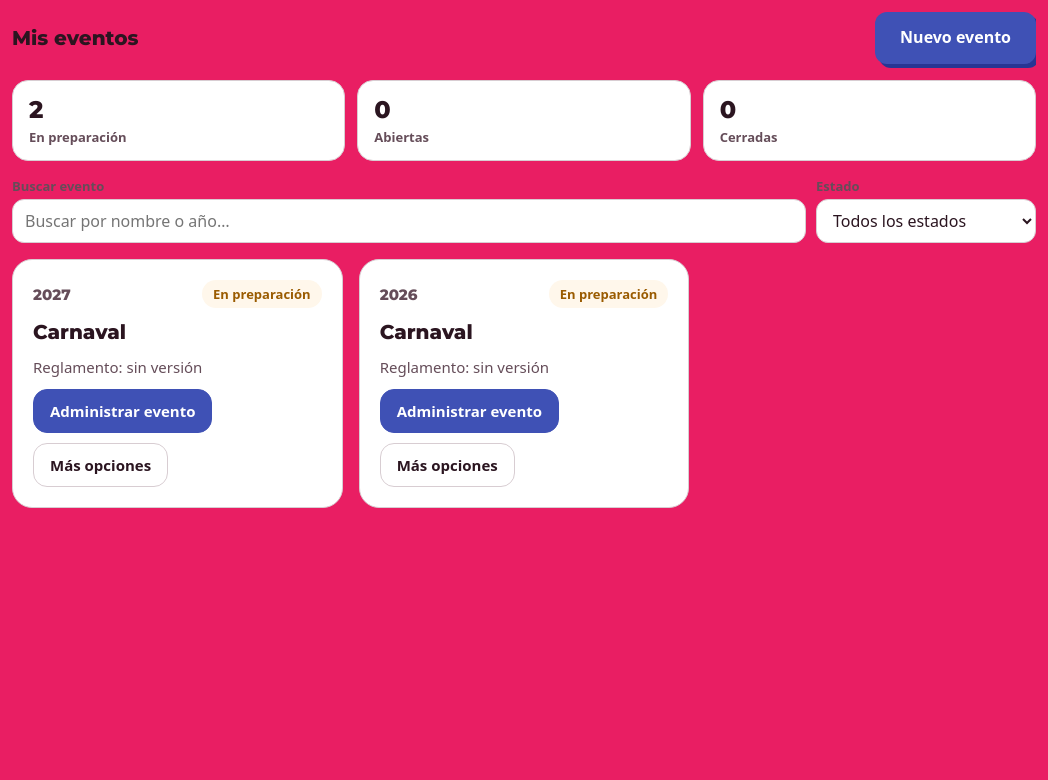
Test: creates a night under the selected edition and reloads it without leaking to another edition
This screenshot has width=1048, height=780.
Later steps or results of the test are not shown.
Click the button with aria-label "Administrar evento Carnaval 2027" at x=123, y=411, box [33, 389, 212, 433]
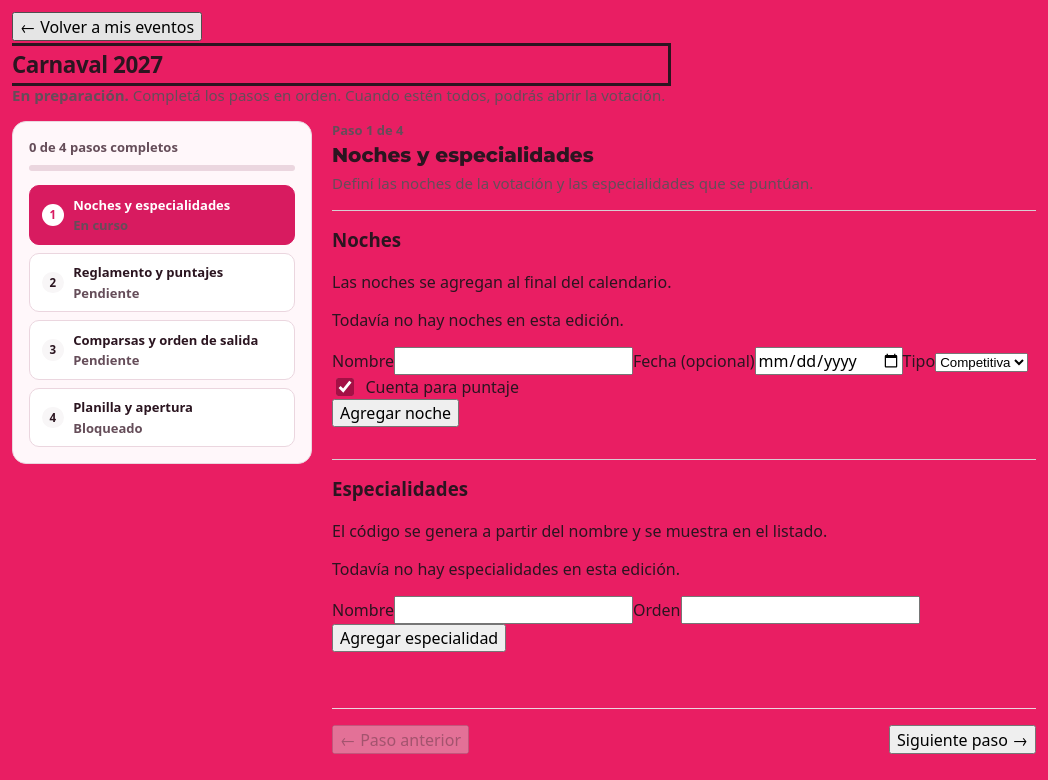
Check: the text "Todavía no hay noches en esta edición." is shown, box [332, 309, 624, 331]
Type "Primera noche" into the field labelled "Nombre" next to "Fecha (opcional)" at x=514, y=361, box [394, 347, 633, 375]
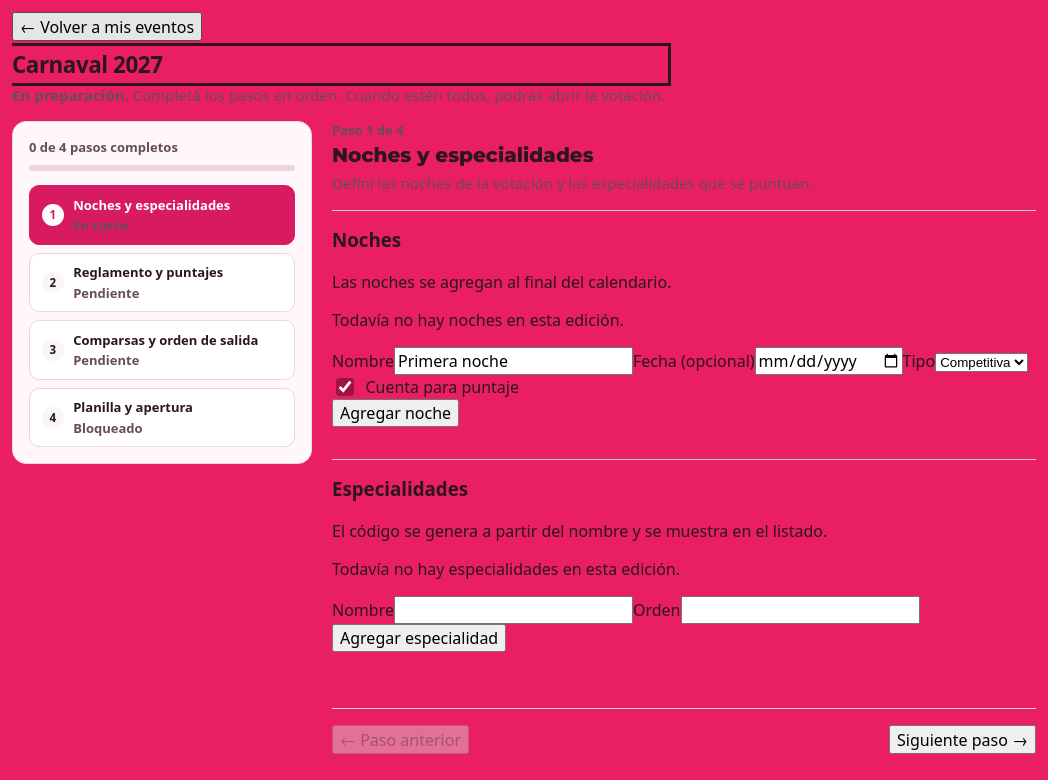
Click the button "Agregar noche" at x=396, y=413, box [332, 399, 459, 427]
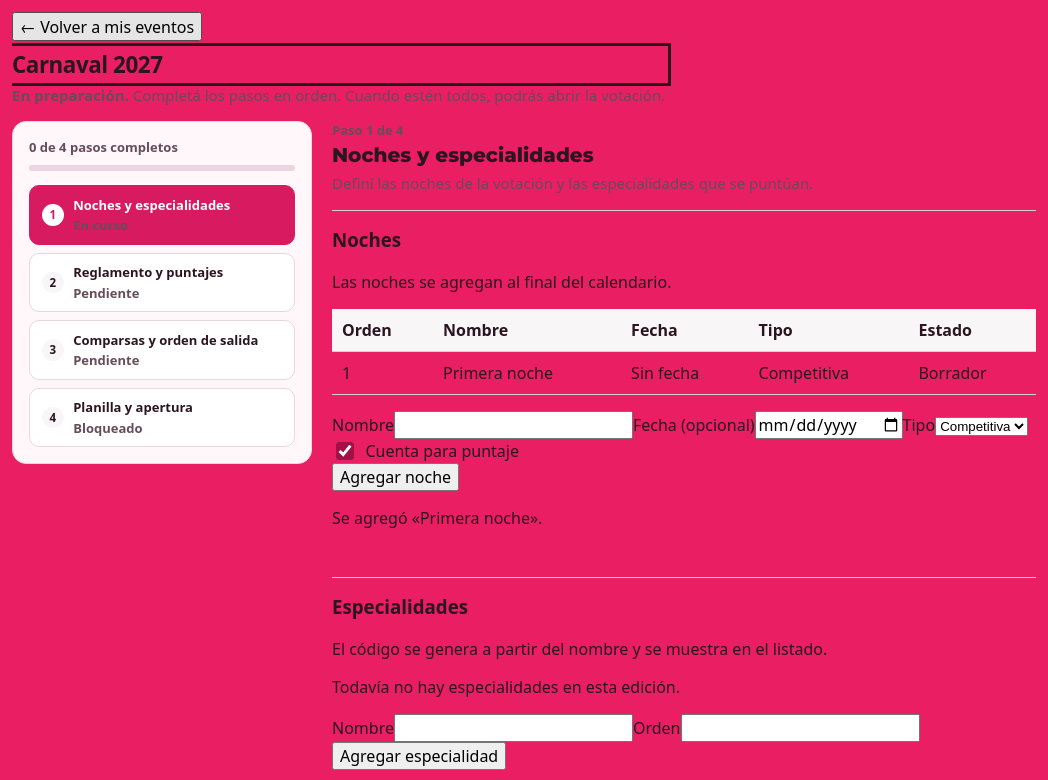
Check: the cell "Primera noche" is shown, box [433, 352, 621, 394]
